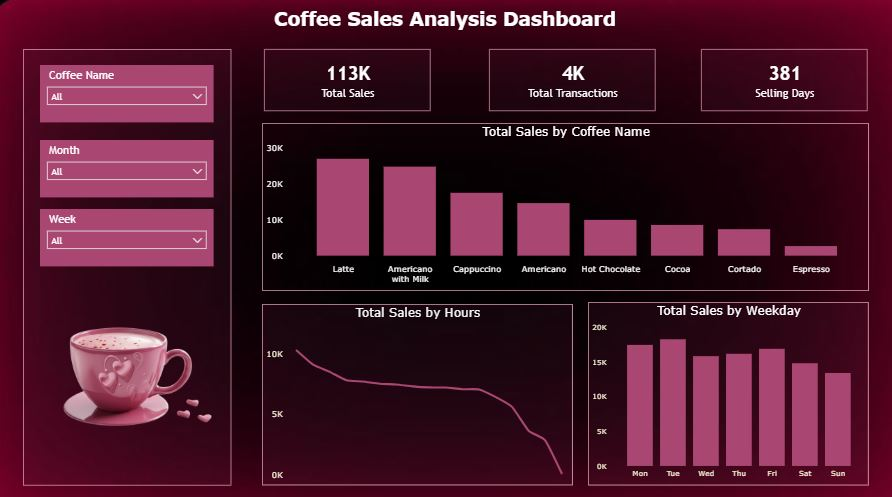

What the dashboard file says about the page in this screenshot:
{"tool":"powerbi","page":{"name":"Page 1","canvas":[1280,720],"ordinal":0},"visuals":[{"type":"cardVisual","fields":{"Data":["Coffee_shop sales.Total Sales"]},"box":[364.3,53.9,272.1,123.3],"z":0},{"type":"columnChart","title":"Total Sales by Coffee Name","fields":{"Category":["Coffee_shop sales.coffee_name"],"Y":["Coffee_shop sales.Total Sales"]},"box":[378.4,177.2,867.4,239.5],"z":1000},{"type":"lineChart","title":"Total Sales by Hours","fields":{"Category":["Coffee_shop sales.hour_of_day"],"Y":["Coffee_shop sales.Total Sales"]},"box":[378.4,435.1,443.6,259.4],"z":2000},{"type":"clusteredColumnChart","fields":{"Y":["Coffee_shop sales.Total Sales"],"Category":["Coffee_shop sales.Weekday"]},"box":[844.7,432.3,401.1,262.2],"z":3000},{"type":"textbox","box":[0,0,1279.8,53.9],"z":4000},{"type":"shape","box":[36.9,70.9,297.6,623.6],"z":5000},{"type":"slicer","fields":{"Values":["Coffee_shop sales.coffee_name"]},"box":[60.9,95,248,82.2],"z":6000},{"type":"slicer","fields":{"Values":["Coffee_shop sales.Month Full Name"]},"box":[60.9,201.3,248,82.2],"z":7000},{"type":"slicer","fields":{"Values":["Coffee_shop sales.Weekday"]},"box":[60.9,300.5,248,82.2],"z":8000},{"type":"image","box":[60.9,392.6,248,267.9],"z":9000},{"type":"cardVisual","fields":{"Data":["Coffee_shop sales.Total Transactions"]},"box":[686,53.9,272.1,123.3],"z":10000},{"type":"cardVisual","fields":{"Data":["Coffee_shop sales.Selling Days"]},"box":[987.9,53.9,272.1,123.3],"z":11000}]}

Visuals, with their boxes in screenshot pixels (x1, y1, x2, y2), scaled from the page's 1280x720 canvas onto the 892x497 screenshot:
cardVisual - Coffee_shop sales.Total Sales: Rect(254, 37, 443, 122)
"Total Sales by Coffee Name" columnChart: Rect(264, 122, 868, 288)
"Total Sales by Hours" lineChart: Rect(264, 300, 573, 479)
clusteredColumnChart - Coffee_shop sales.Total Sales x Coffee_shop sales.Weekday: Rect(589, 298, 868, 479)
textbox: Rect(0, 0, 891, 37)
shape: Rect(26, 49, 233, 479)
slicer - Coffee_shop sales.coffee_name: Rect(42, 66, 215, 122)
slicer - Coffee_shop sales.Month Full Name: Rect(42, 139, 215, 196)
slicer - Coffee_shop sales.Weekday: Rect(42, 207, 215, 264)
image: Rect(42, 271, 215, 456)
cardVisual - Coffee_shop sales.Total Transactions: Rect(478, 37, 668, 122)
cardVisual - Coffee_shop sales.Selling Days: Rect(688, 37, 878, 122)
